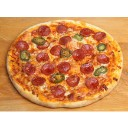pepperonipizza: (1, 20, 124, 107)
